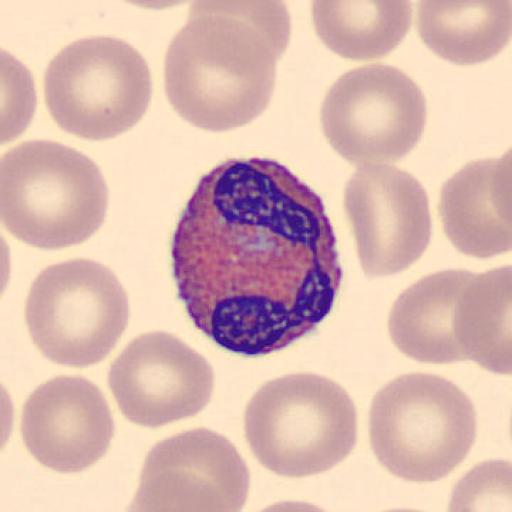RBC: (162, 13, 280, 135), (366, 370, 480, 486), (240, 370, 360, 480), (22, 255, 132, 370), (1, 137, 111, 252), (43, 32, 155, 142), (318, 62, 429, 168), (106, 327, 217, 430), (342, 159, 432, 281), (19, 373, 116, 475), (138, 426, 252, 512), (386, 266, 479, 366), (438, 151, 512, 259), (451, 262, 512, 376), (187, 0, 293, 63), (309, 0, 414, 63), (416, 0, 511, 68), (120, 471, 230, 512), (445, 455, 512, 512), (2, 45, 38, 147), (234, 495, 358, 512), (0, 363, 18, 458), (1, 380, 16, 456), (103, 0, 203, 11), (0, 224, 13, 304), (361, 502, 450, 512)
WBC: (166, 156, 346, 359)
